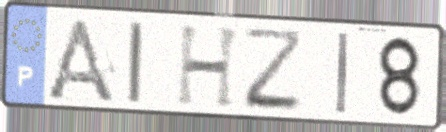8: (375, 33, 427, 120)
A: (41, 16, 120, 107)
H: (175, 23, 245, 110)
I: (126, 20, 146, 106), (334, 30, 351, 116)
Z: (241, 26, 305, 114)
